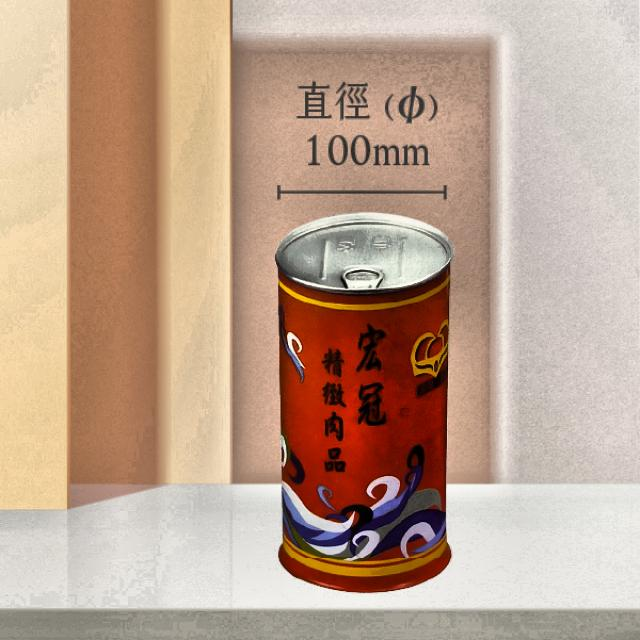can: (270, 206, 460, 604)
